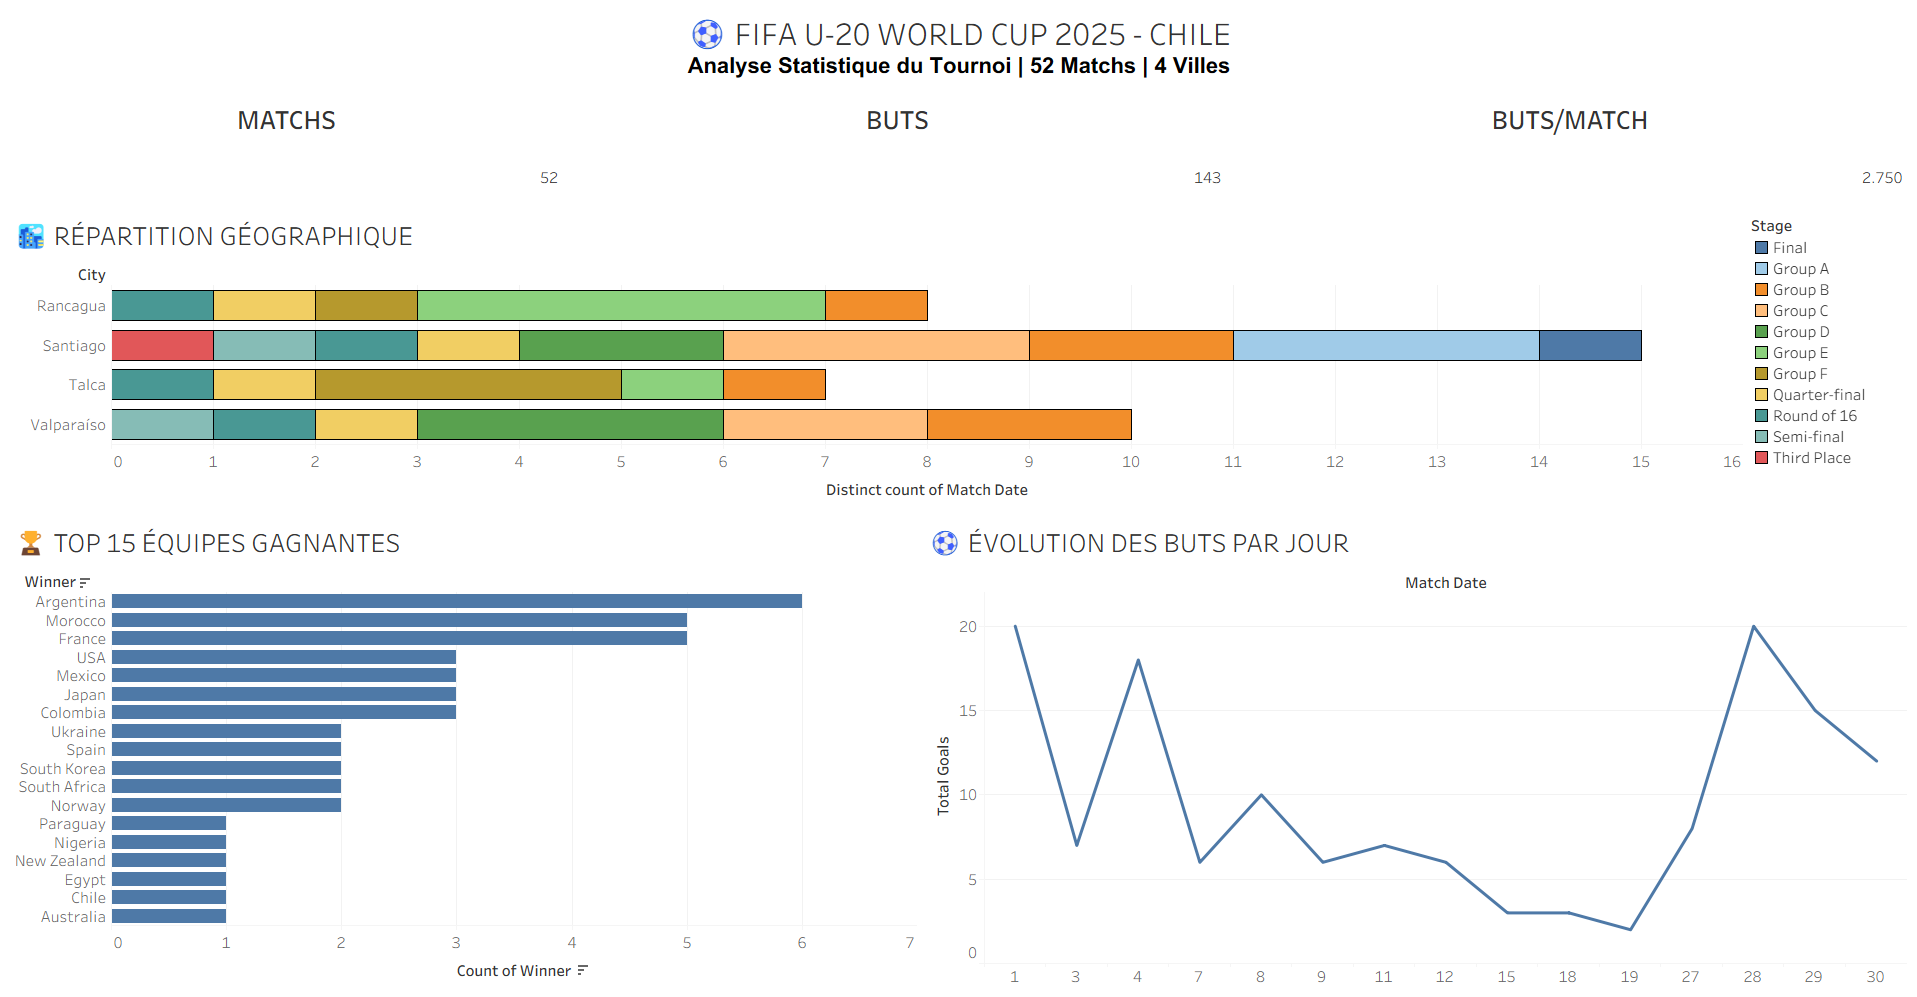

Layout of this report page (visuals, bound fields, positions):
{"tool":"tableau","page":{"name":"⚽ FIFA U-20 WORLD CUP 2025 - CHILE","canvas":[1000,1000],"units":"permille","ordinal":0},"visuals":[{"type":"title","box":[4.7,9.1,990.6,85.3]},{"type":"worksheet","title":"MATCHS","mark":"Automatic","box":[4.7,95.5,291,116]},{"type":"worksheet","title":"BUTS","mark":"Automatic","box":[295.7,95.5,344.7,116]},{"type":"worksheet","title":"BUTS/MATCH","mark":"Automatic","box":[640.4,95.5,354.9,116]},{"type":"worksheet","title":"🏙️ RÉPARTITION GÉOGRAPHIQUE","mark":"Automatic","rows":["City"],"cols":["Match Date"],"box":[4.7,211.5,905.1,306]},{"type":"legend","title":"🏙️ RÉPARTITION GÉOGRAPHIQUE","param":"[federated.0w9htnh1ekj7sb18aneey111016h].[none:Stage:nk]","box":[909.7,211.5,85.6,306]},{"type":"worksheet","title":"🏆 TOP 15 ÉQUIPES GAGNANTES","mark":"Automatic","rows":["Winner"],"cols":["Winner"],"box":[4.7,517.6,475.6,473.3]},{"type":"worksheet","title":"⚽ ÉVOLUTION DES BUTS PAR JOUR","mark":"Line","rows":["Total Goals"],"cols":["Match Date"],"box":[480.3,517.6,515,473.3]}]}

Visuals, with their boxes on the dashboard's canvas, which has no fixed pixel size, in thousandths of its width and height (x1, y1, x2, y2). These are canvas units, not pixel positions in the 1917x997 screenshot, which may show the page scaled, cropped or inside an application window:
title: locate(5, 9, 995, 94)
"MATCHS" worksheet: locate(5, 96, 296, 212)
"BUTS" worksheet: locate(296, 96, 640, 212)
"BUTS/MATCH" worksheet: locate(640, 96, 995, 212)
"🏙️ RÉPARTITION GÉOGRAPHIQUE" worksheet: locate(5, 212, 910, 518)
"🏙️ RÉPARTITION GÉOGRAPHIQUE" legend: locate(910, 212, 995, 518)
"🏆 TOP 15 ÉQUIPES GAGNANTES" worksheet: locate(5, 518, 480, 991)
"⚽ ÉVOLUTION DES BUTS PAR JOUR" worksheet (Line marks): locate(480, 518, 995, 991)
